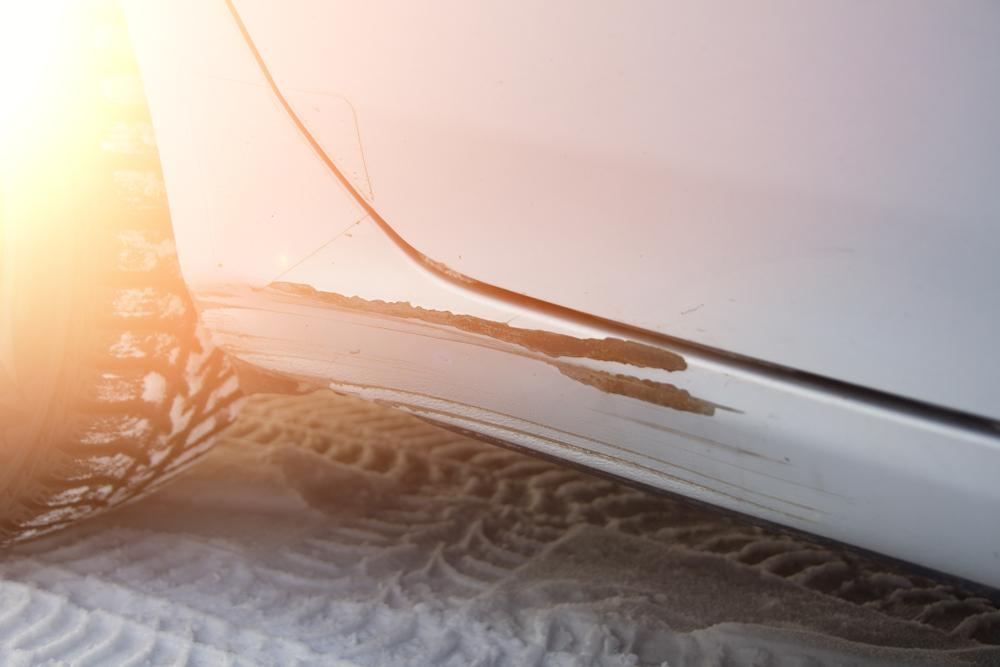scratch: (192, 280, 844, 533)
